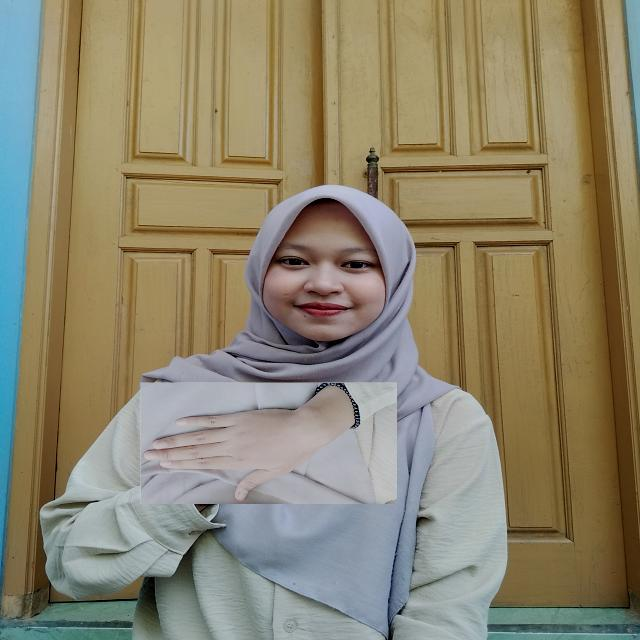tolong: (140, 382, 397, 504)
